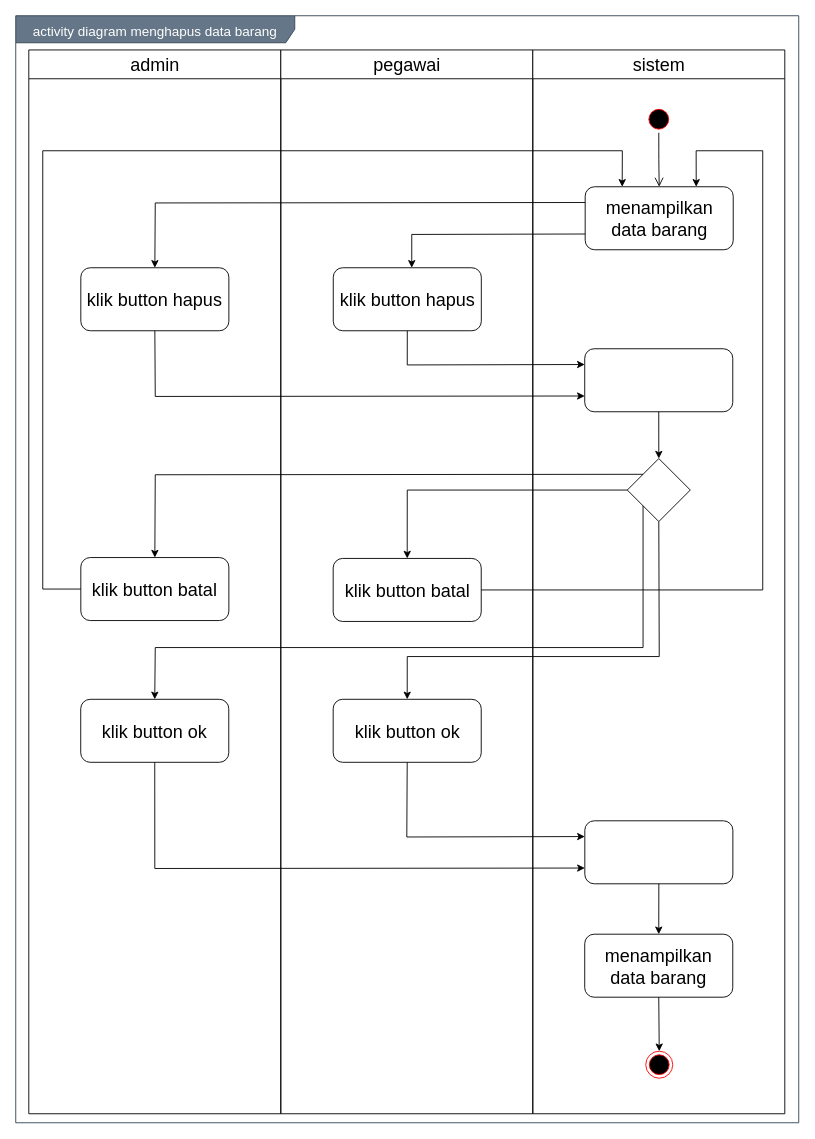
Image size: 815x1139. Some labels were removed from this diagram. The shapes that lost their labels are listed below. From the top down, each one's centre as x and y in pixels, then its label:
the point at 658,380: menampilkan konfirmasi hapus data barang
the point at 658,852: menghapus data barang
